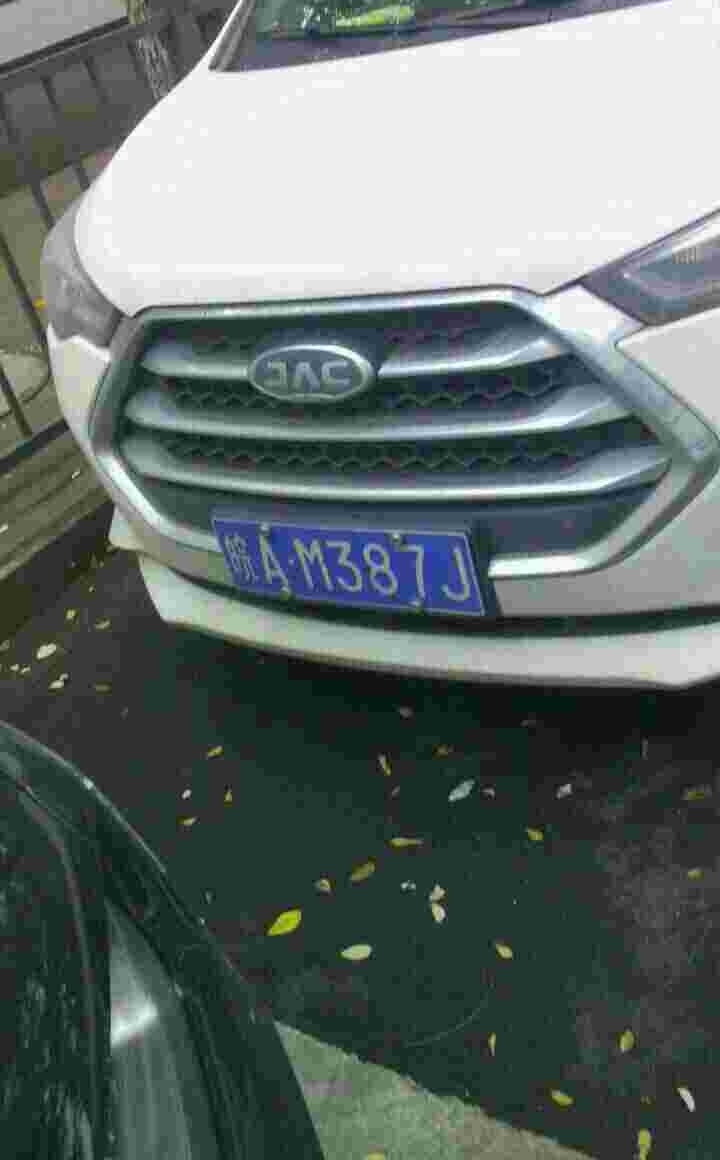license_plate: (216, 523, 485, 624)
